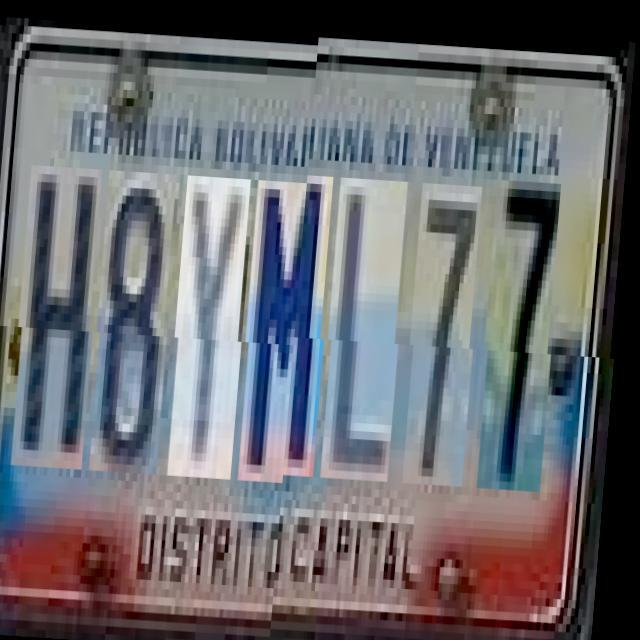7: (484, 172, 568, 483), (410, 177, 489, 480)
8: (98, 161, 184, 464)
H: (19, 157, 109, 460)
L: (328, 173, 414, 476)
M: (246, 169, 340, 472)
Y: (175, 165, 258, 468)
